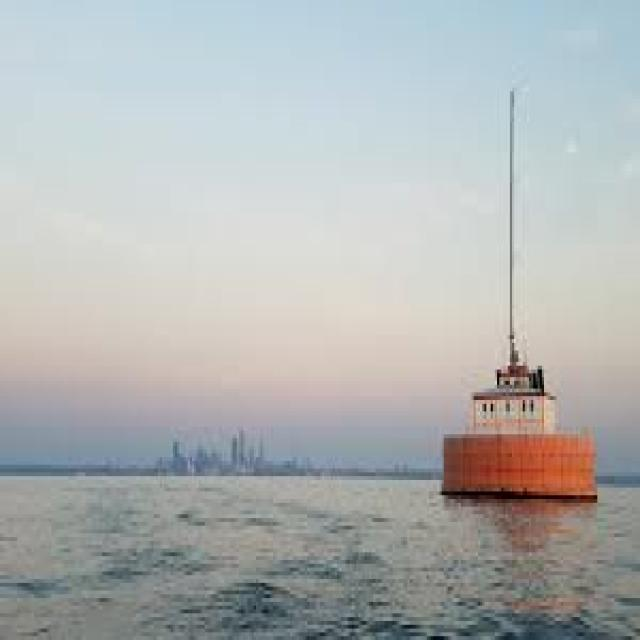Buoy: (435, 77, 606, 526)
